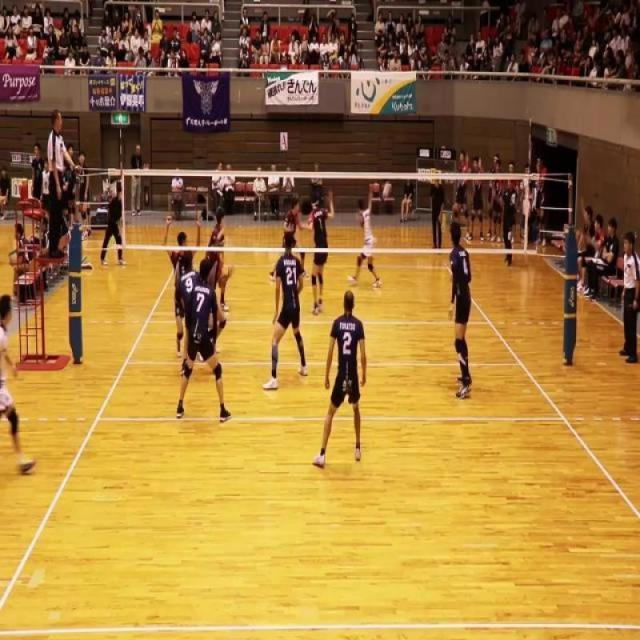volleyball: (382, 180, 391, 200)
